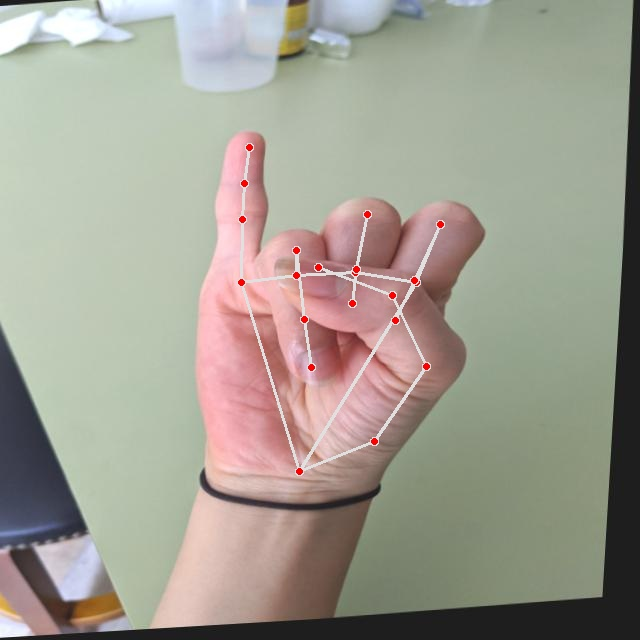I: (178, 111, 506, 500)
